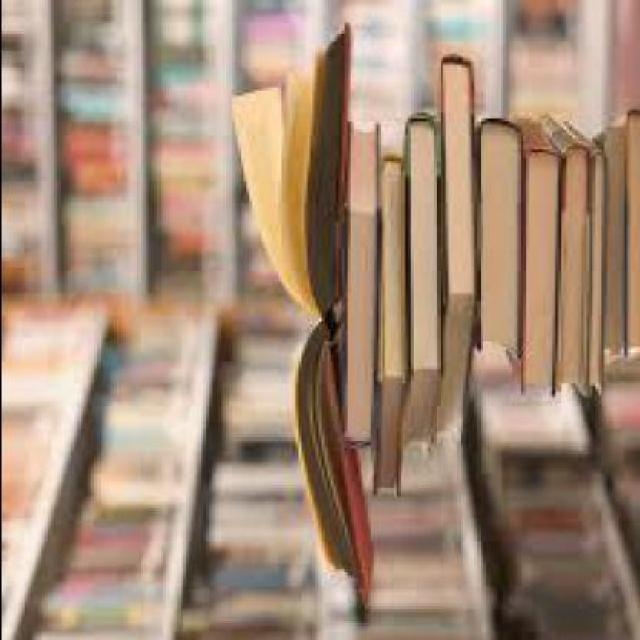PAPER: (228, 22, 366, 604), (432, 54, 476, 437), (332, 116, 378, 442), (553, 118, 605, 396), (536, 112, 582, 396), (366, 152, 403, 499), (398, 110, 436, 445), (470, 112, 522, 356), (508, 115, 550, 392), (603, 110, 637, 358), (588, 118, 620, 362)
